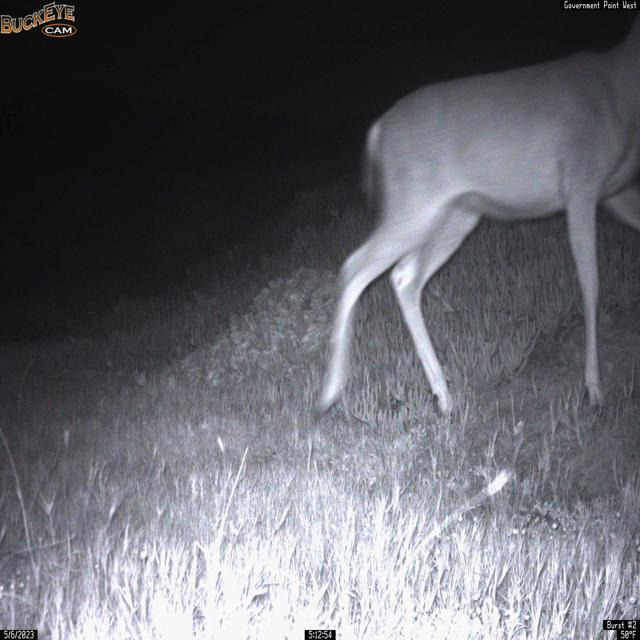deer: (312, 10, 640, 423)
